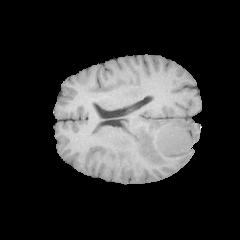glioma: (130, 119, 196, 166)
